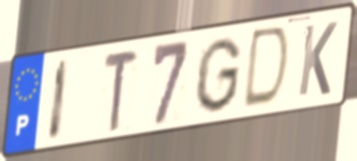7: (151, 40, 191, 129)
D: (239, 23, 292, 112)
G: (191, 35, 244, 115)
I: (46, 57, 72, 144)
K: (295, 19, 340, 99)
T: (102, 48, 141, 134)
